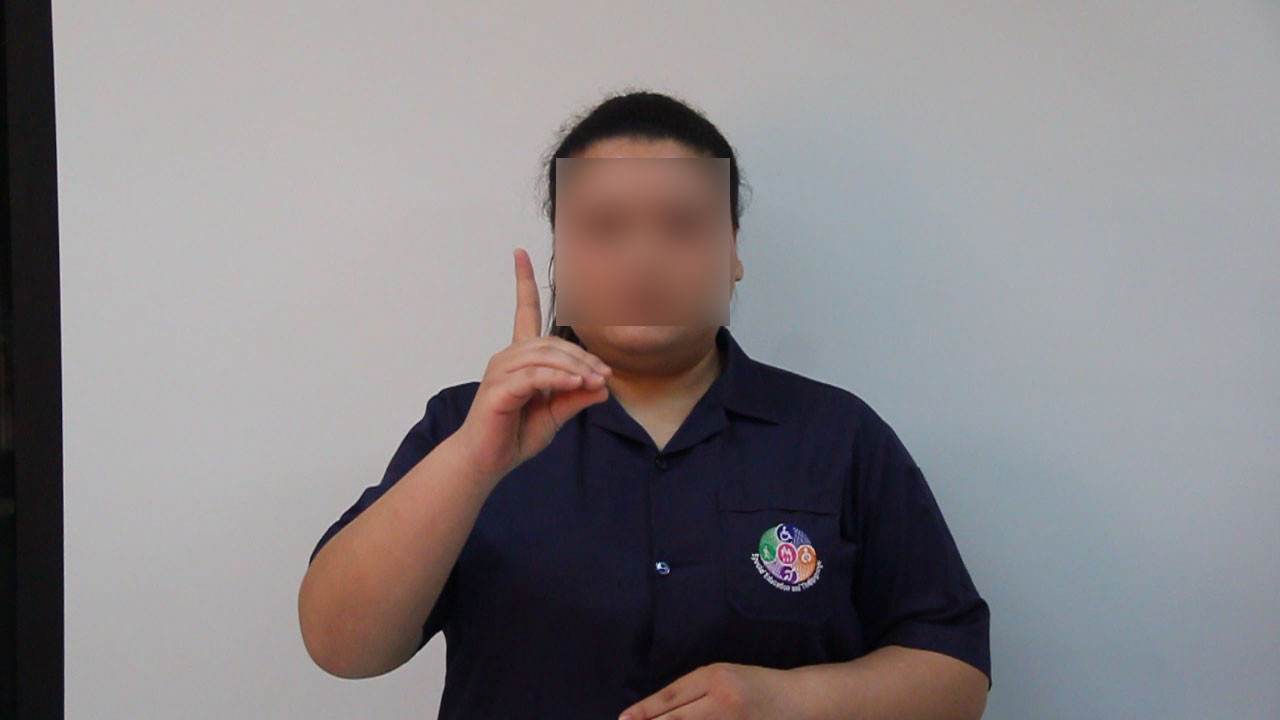dor: (468, 238, 621, 480)
